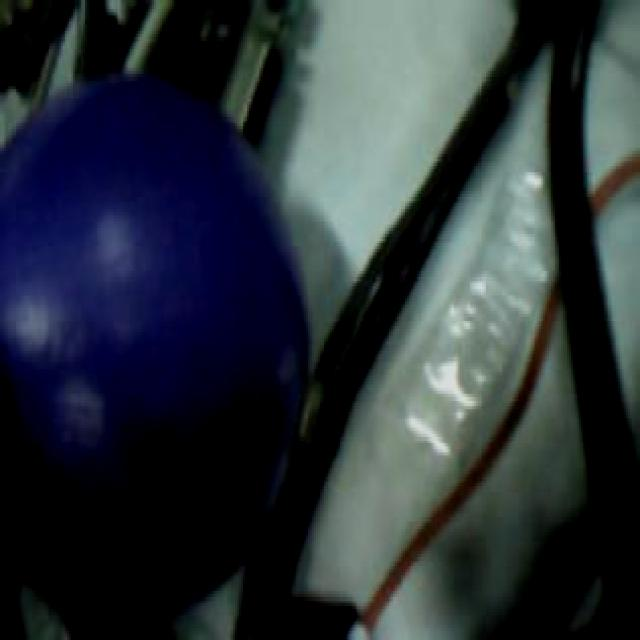BallPurple: (0, 70, 308, 628)
